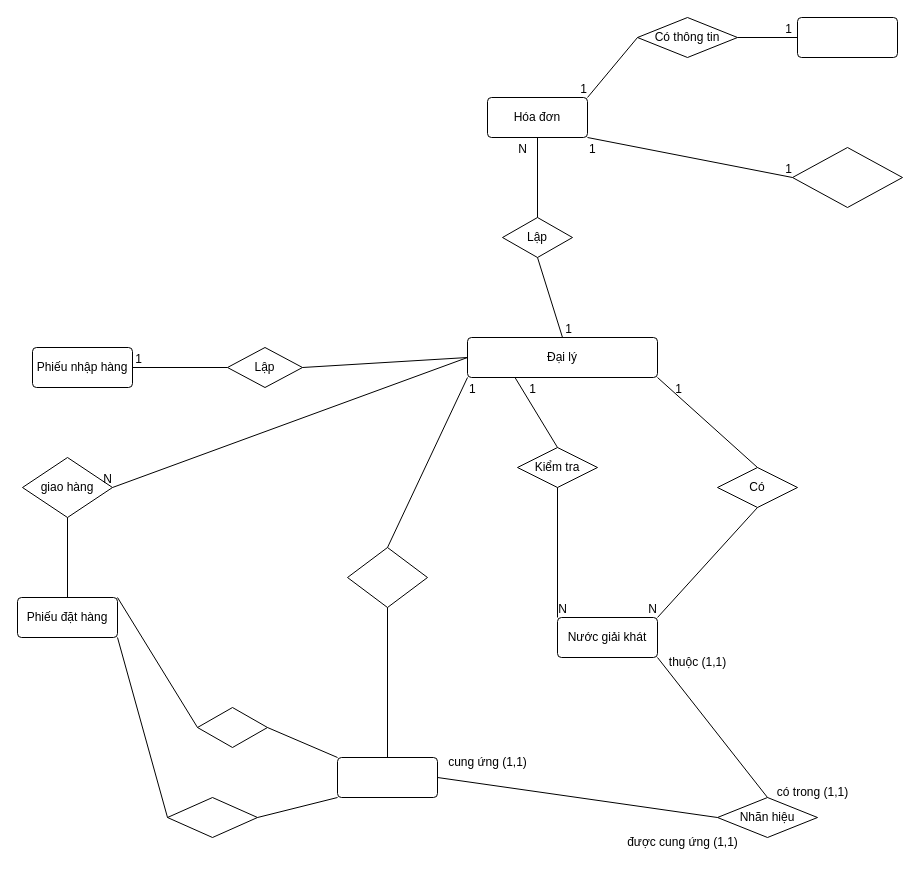
This 920x875 diagram has some shape labels left out. The box of each missing label's shape, as (x1, y1, x2, y2) in pixels:
Chi tiết hóa đơn: (792, 146, 902, 208)
Khách hàng: (796, 16, 898, 58)
Nhà cung cấp: (336, 756, 438, 798)
Thông qua: (166, 796, 258, 838)
áp giá: (196, 706, 268, 748)
đặt hàng: (346, 546, 428, 608)
